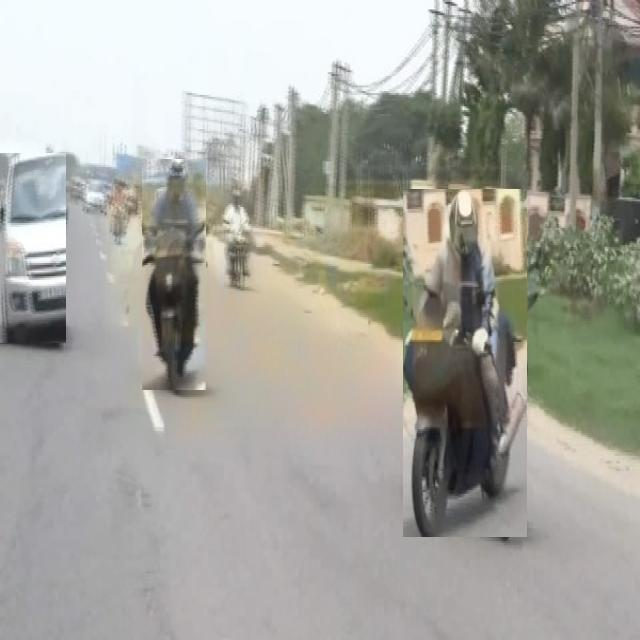car: (0, 153, 66, 343)
motorcycle: (404, 189, 527, 537), (142, 160, 206, 390)
